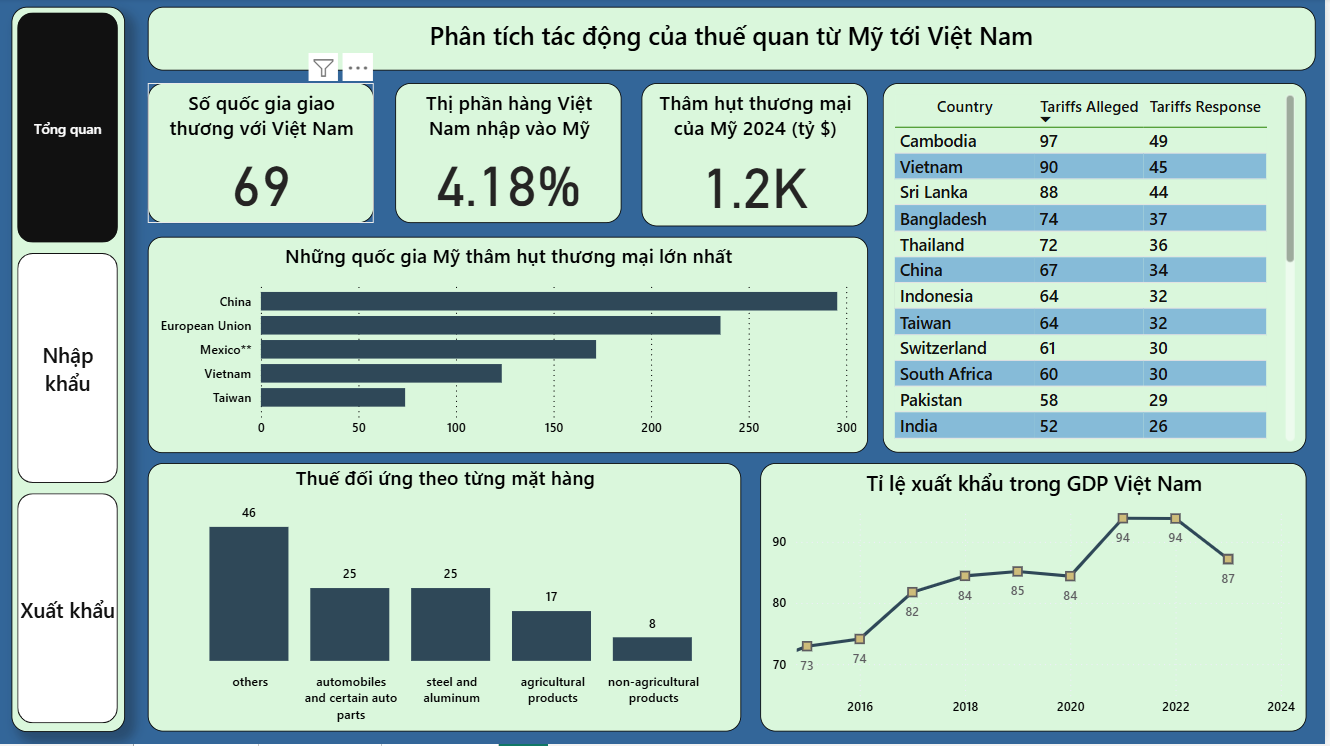

The page's visual inventory and layout, read from the dashboard file:
{"tool":"powerbi","page":{"name":"Tổng quan","canvas":[1280,720],"ordinal":0},"visuals":[{"type":"pageNavigator","box":[12.1,8.4,109.8,699.7],"z":0},{"type":"textbox","box":[143.6,8.4,1126.8,61.5],"z":1000},{"type":"columnChart","title":"Thuế đối ứng theo từng mặt hàng","fields":{"Category":["US Tariff for Vietnam.type"],"Y":["Sum(US Tariff for Vietnam.tariff)"]},"box":[143.6,448.8,573.1,259.4],"z":2000},{"type":"card","title":"Thâm hụt thương mại của Mỹ 2024 (tỷ $)","fields":{"Values":["Sum(US Imports and Exports in 2024.US_real_deficit_2024)"]},"box":[620.1,82,218.4,138.7],"z":3000},{"type":"barChart","title":"Những quốc gia Mỹ thâm hụt thương mại lớn nhất","fields":{"Y":["Sum(US Imports and Exports in 2024.US_real_deficit_2024)"],"Category":["US Imports and Exports in 2024.Country"]},"box":[143.6,230.4,694.9,208.7],"z":4000},{"type":"card","title":"Thị phần hàng Việt Nam nhập vào Mỹ","fields":{"Values":["US Imports and Exports in 2024.Vietnam Import Share"]},"box":[382.4,82,218.4,135.1],"z":5000},{"type":"lineChart","title":"Tỉ lệ xuất khẩu trong GDP Việt Nam","fields":{"Category":["Vietnam’s Exports of Goods and Services.Year"],"Y":["Sum(Vietnam’s Exports of Goods and Services.Proportion of GDP (%))"]},"box":[734.7,448.8,527.2,259.4],"z":6000},{"type":"tableEx","fields":{"Values":["US Imports and Exports in 2024.Country","US Imports and Exports in 2024.Tariffs Alleged","US Imports and Exports in 2024.Tariffs Response"]},"box":[853,82,409,357.1],"z":7000},{"type":"card","title":"Số quốc gia giao thương với Việt Nam","fields":{"Values":["Count(Vietnam Imports and Exports by country and territory.Country)"]},"box":[143.6,82,218.4,135.1],"z":8000}]}

Visuals, with their boxes in screenshot pixels (x1, y1, x2, y2), scaled from the page's 1280x720 canvas onto the 1330x746 screenshot:
pageNavigator: x1=13, y1=9, x2=127, y2=734
textbox: x1=149, y1=9, x2=1320, y2=72
"Thuế đối ứng theo từng mặt hàng" columnChart: x1=149, y1=465, x2=745, y2=734
"Thâm hụt thương mại của Mỹ 2024 (tỷ $)" card: x1=644, y1=85, x2=871, y2=229
"Những quốc gia Mỹ thâm hụt thương mại lớn nhất" barChart: x1=149, y1=239, x2=871, y2=455
"Thị phần hàng Việt Nam nhập vào Mỹ" card: x1=397, y1=85, x2=624, y2=225
"Tỉ lệ xuất khẩu trong GDP Việt Nam" lineChart: x1=763, y1=465, x2=1311, y2=734
tableEx - US Imports and Exports in 2024.Country x US Imports and Exports in 2024.Tariffs Alleged: x1=886, y1=85, x2=1311, y2=455
"Số quốc gia giao thương với Việt Nam" card: x1=149, y1=85, x2=376, y2=225
